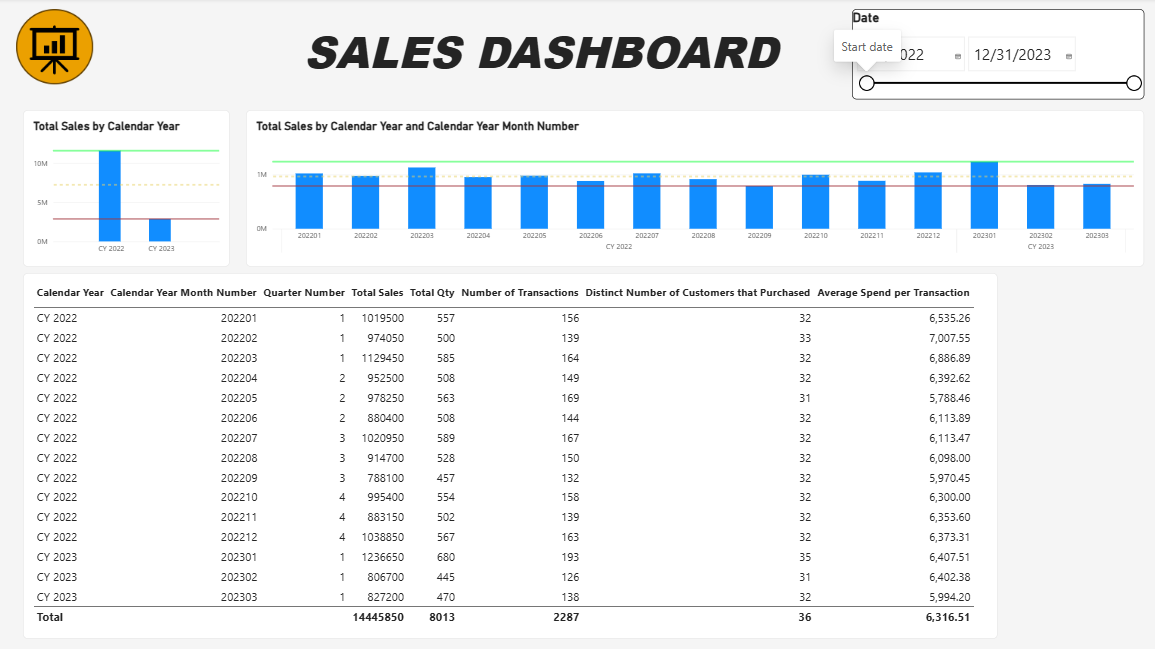

The page's visual inventory and layout, read from the dashboard file:
{"tool":"powerbi","page":{"name":"Sales","canvas":[1920,1080],"ordinal":3},"visuals":[{"type":"textbox","box":[506.7,36.7,830,115],"z":0},{"type":"image","box":[17.5,17.5,147.5,125],"z":3000},{"type":"slicer","title":"Date","fields":{"Values":["Date.Date"]},"box":[1415,17.5,485,150],"z":3001},{"type":"clusteredColumnChart","fields":{"Category":["Date.Calendar Year"],"Y":["_Measures.Total Sales"]},"box":[40,185,342.5,260],"z":3002},{"type":"clusteredColumnChart","fields":{"Category":["Date.Calendar Year","Date.Calendar Year Month Number"],"Y":["_Measures.Total Sales"]},"box":[410,185,1490,260],"z":3003},{"type":"tableEx","fields":{"Values":["Date.Calendar Year","Date.Calendar Year Month Number","Date.Quarter Number","_Measures.Total Sales","_Measures.Total Qty","_Measures.Number of Transactions","_Measures.Distinct Number of Customers that Purchased","_Measures.Average Spend per Transaction"]},"box":[40,456.7,1616.7,606.7],"z":3004}]}

Visuals, with their boxes in screenshot pixels (x1, y1, x2, y2), scaled from the page's 1920x1080 canvas onto the 1155x649 screenshot:
textbox: {"left": 305, "top": 22, "right": 804, "bottom": 91}
image: {"left": 11, "top": 11, "right": 99, "bottom": 86}
"Date" slicer: {"left": 851, "top": 11, "right": 1143, "bottom": 101}
clusteredColumnChart - Date.Calendar Year x _Measures.Total Sales: {"left": 24, "top": 111, "right": 230, "bottom": 267}
clusteredColumnChart - Date.Calendar Year x Date.Calendar Year Month Number: {"left": 247, "top": 111, "right": 1143, "bottom": 267}
tableEx - Date.Calendar Year x Date.Calendar Year Month Number: {"left": 24, "top": 274, "right": 997, "bottom": 639}
